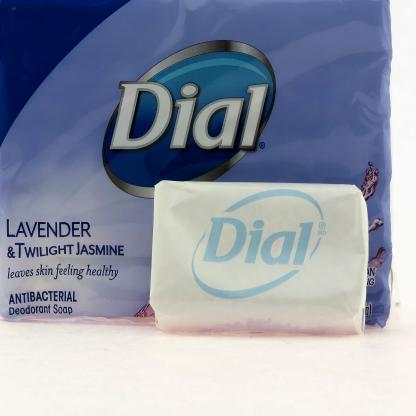soap: (152, 173, 372, 345)
